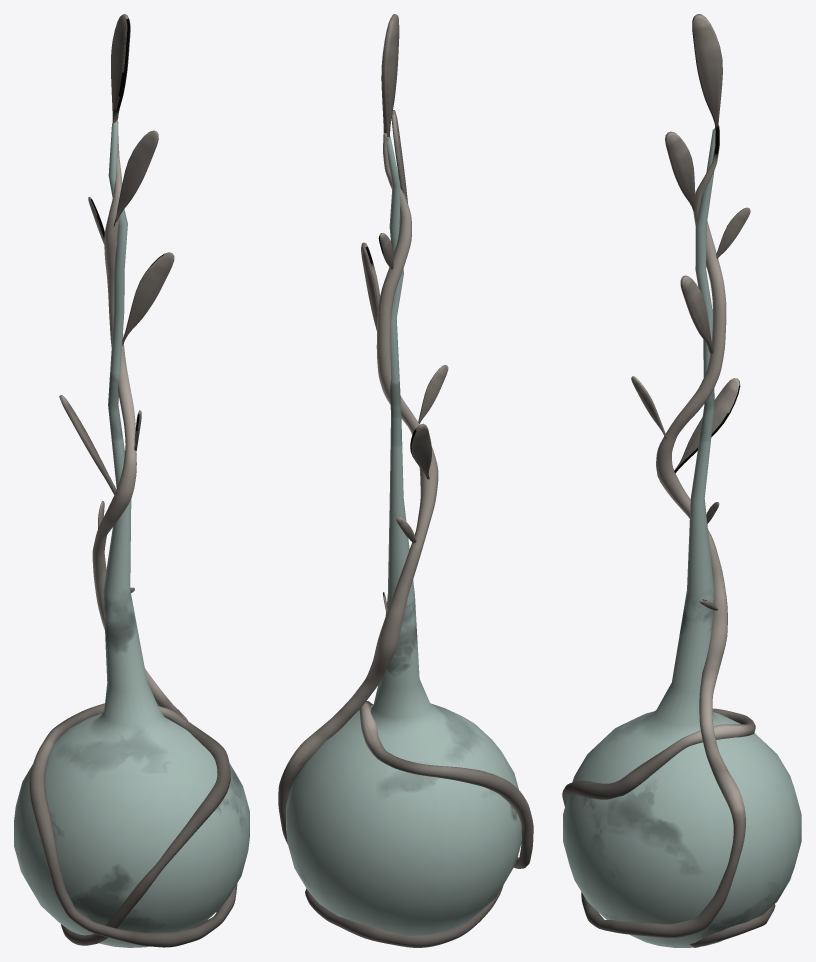
The model's file is DropperDead.fbx.
The picture shows the model from 3 angles, left to right: view 1: azimuth 30°, elevation 25°; view 2: azimuth 150°, elevation 25°; view 3: azimuth 270°, elevation 25°; orthographic projection.
Visible parts, largest first — view 1: Dewdropper; view 2: Dewdropper; view 3: Dewdropper.
Boxes of the visible parts, left/top/right/bottom form: Dewdropper: left=14, top=14, right=249, bottom=947; Dewdropper: left=278, top=14, right=533, bottom=947; Dewdropper: left=562, top=14, right=801, bottom=947.
Size of the model in its own units: 124 by 522 by 123.
2 materials, 1 textured.
